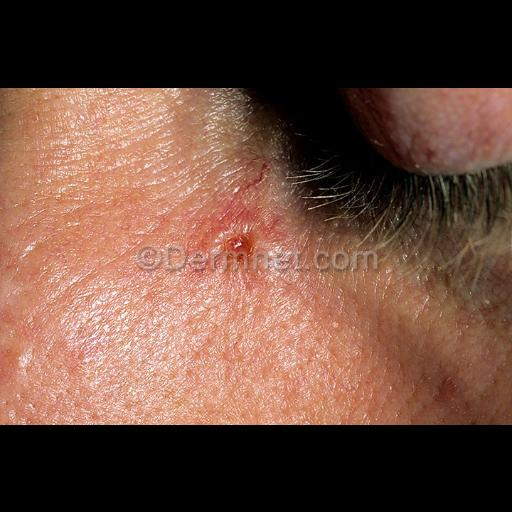Skin_Lesion: (429, 364, 465, 410), (229, 228, 257, 262)
